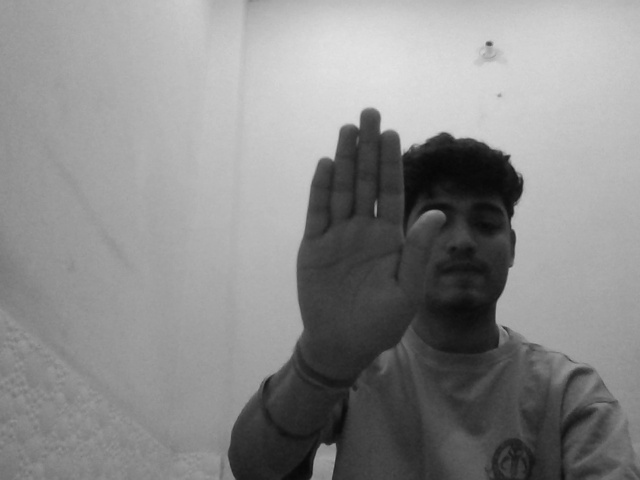Stop: (292, 99, 435, 373)
